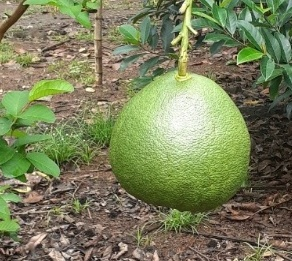Buoi: (110, 70, 256, 221)
